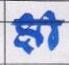i_matra: (43, 10, 58, 49)
